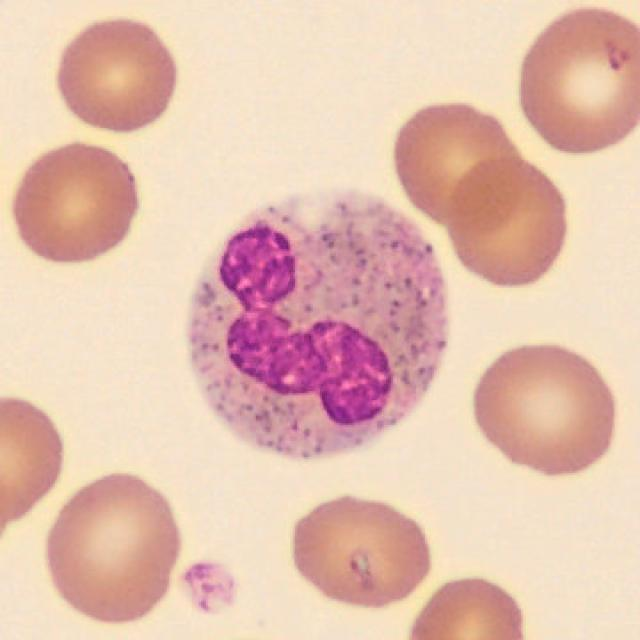Neutrofilo segmentado: (185, 188, 450, 460)
